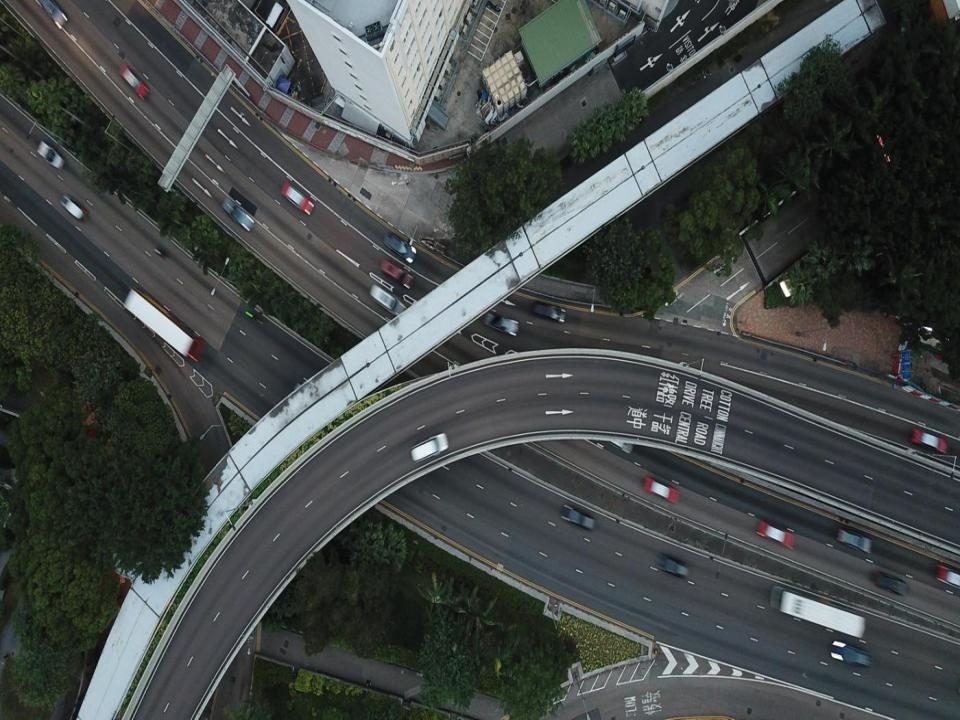bus: (122, 286, 206, 365), (767, 586, 866, 638)
car: (280, 179, 315, 215), (118, 62, 150, 101), (222, 193, 255, 228), (558, 502, 596, 532), (410, 432, 449, 461), (756, 518, 794, 547), (832, 639, 871, 667), (597, 424, 634, 453), (644, 476, 681, 504), (382, 233, 416, 263), (380, 258, 414, 288), (910, 425, 948, 450), (872, 568, 907, 593), (838, 528, 873, 553), (656, 552, 690, 577), (41, 0, 69, 30), (485, 312, 519, 336), (38, 140, 64, 170), (60, 195, 85, 221), (935, 564, 960, 589)
van: (370, 285, 408, 321), (532, 300, 566, 325)
